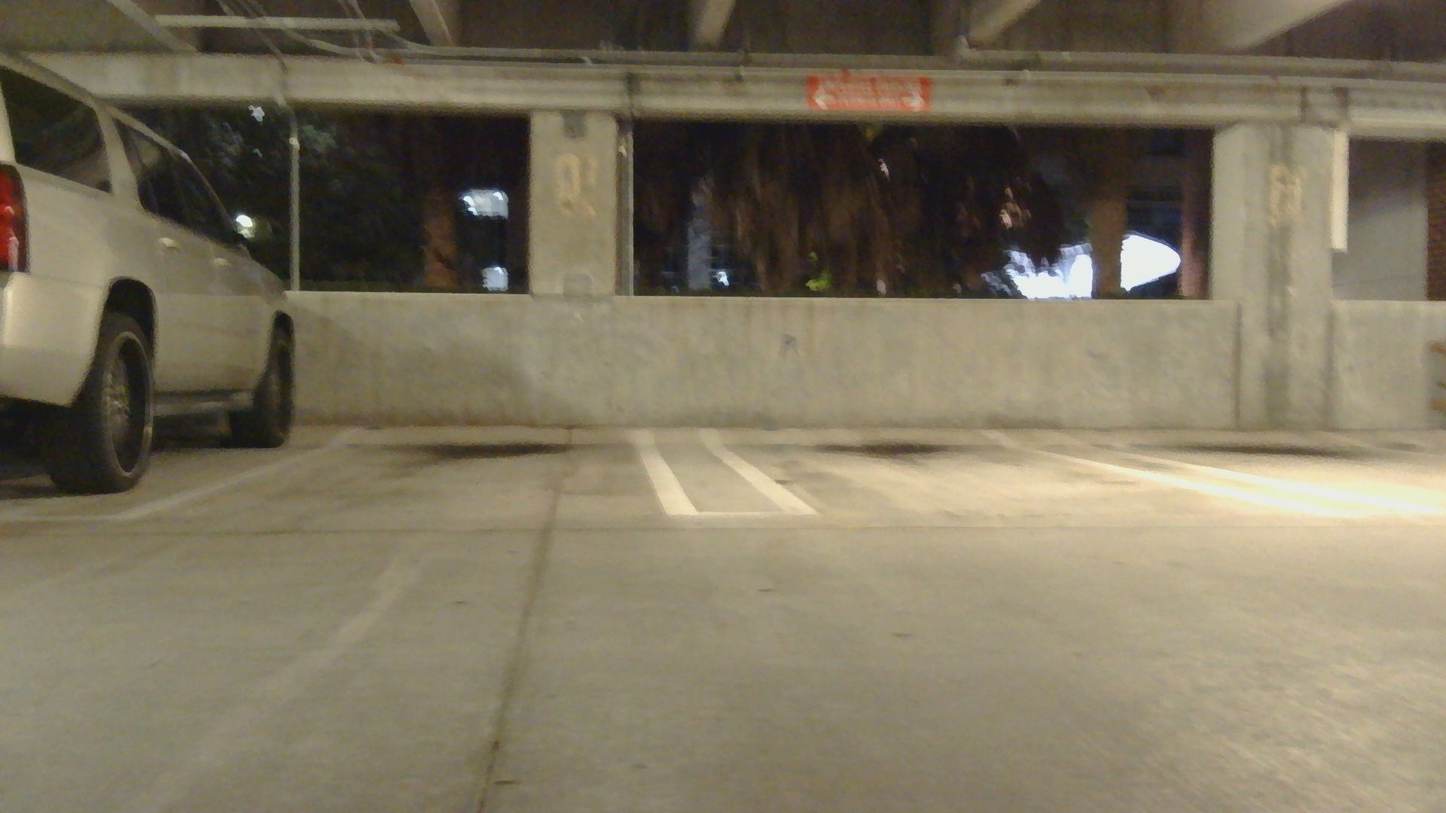empty_spot: (674, 350, 1376, 534), (1025, 288, 1446, 535), (109, 372, 712, 525)
occupied_spot: (0, 30, 316, 512)
